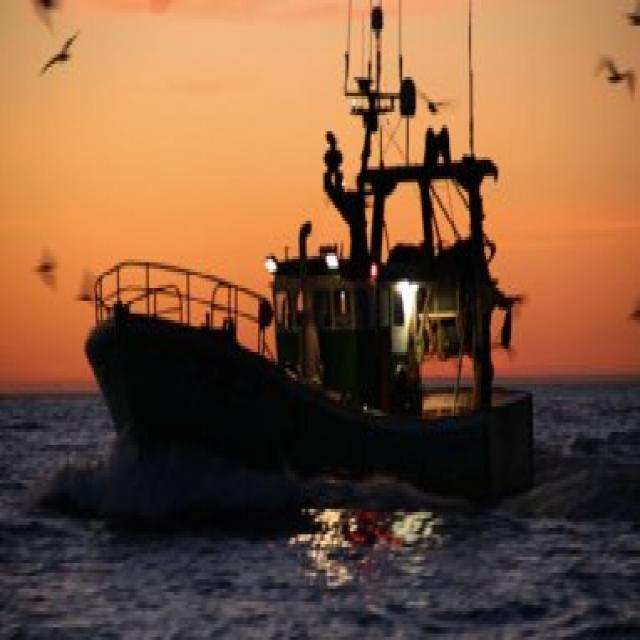Ship: (80, 4, 563, 526)
